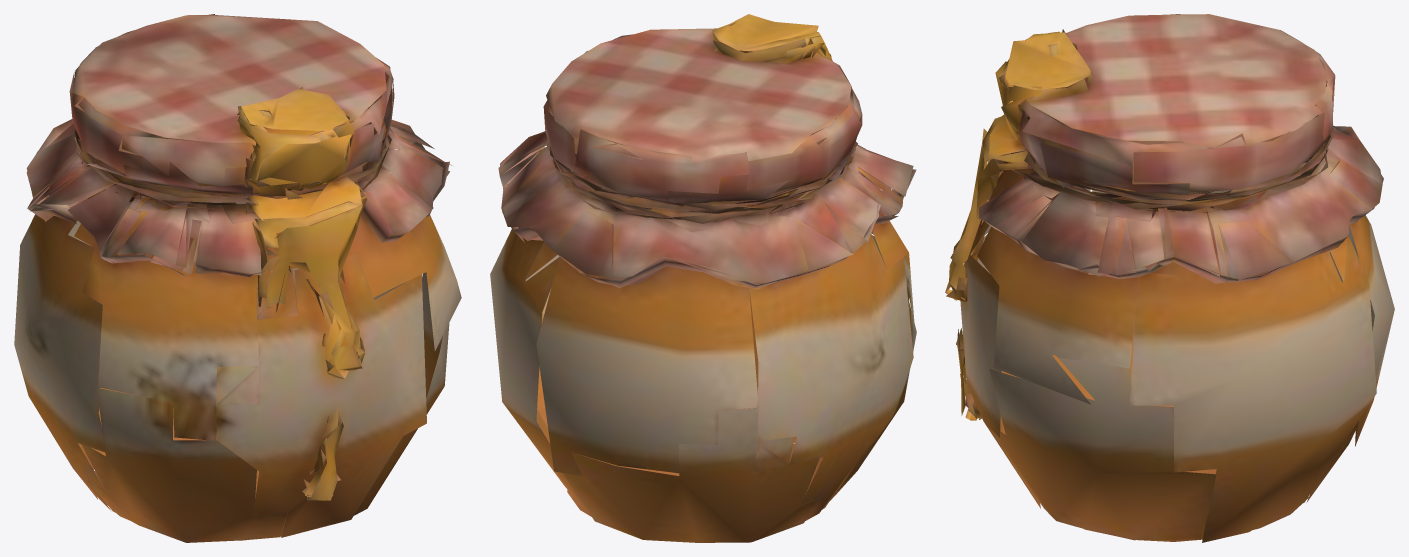
The model's file is honeypot.glb.
The picture shows the model from 3 angles, left to right: view 1: azimuth 30°, elevation 25°; view 2: azimuth 150°, elevation 25°; view 3: azimuth 270°, elevation 25°; orthographic projection. The views are drawn at different scales.
Parts seen in each view (by area): view 1: honeypot; view 2: honeypot; view 3: honeypot.
Part boxes in pixels (<box>): honeypot: <box>14,14,461,542</box>; honeypot: <box>490,14,916,542</box>; honeypot: <box>945,14,1394,542</box>.
Bounding box in the file's own units: 0.4552 × 0.502 × 0.4642.
1 material, 1 textured.
